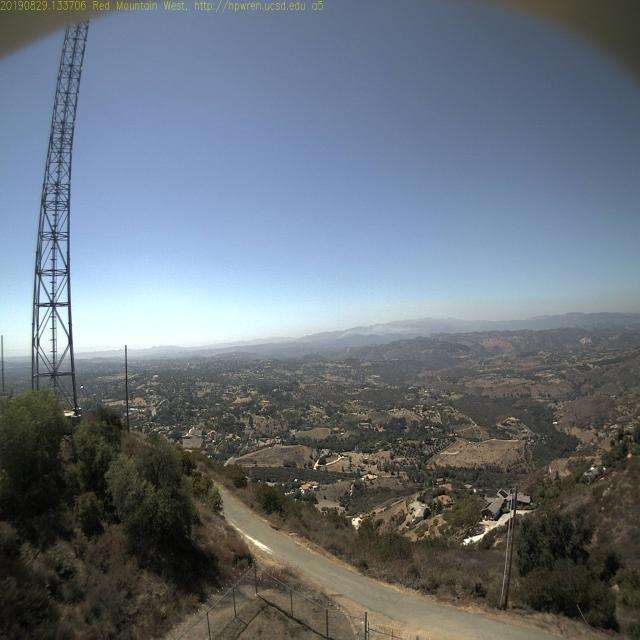smoke: (332, 322, 361, 344)
